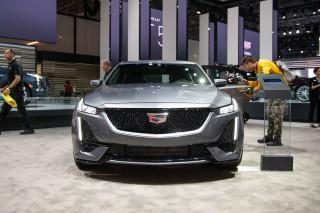cadillac: (146, 109, 172, 125)
